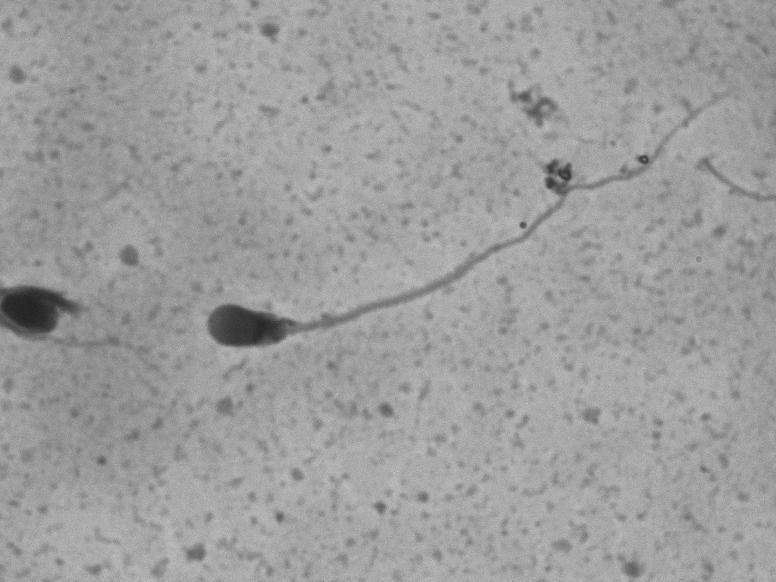Abnormal: (194, 84, 743, 359)
